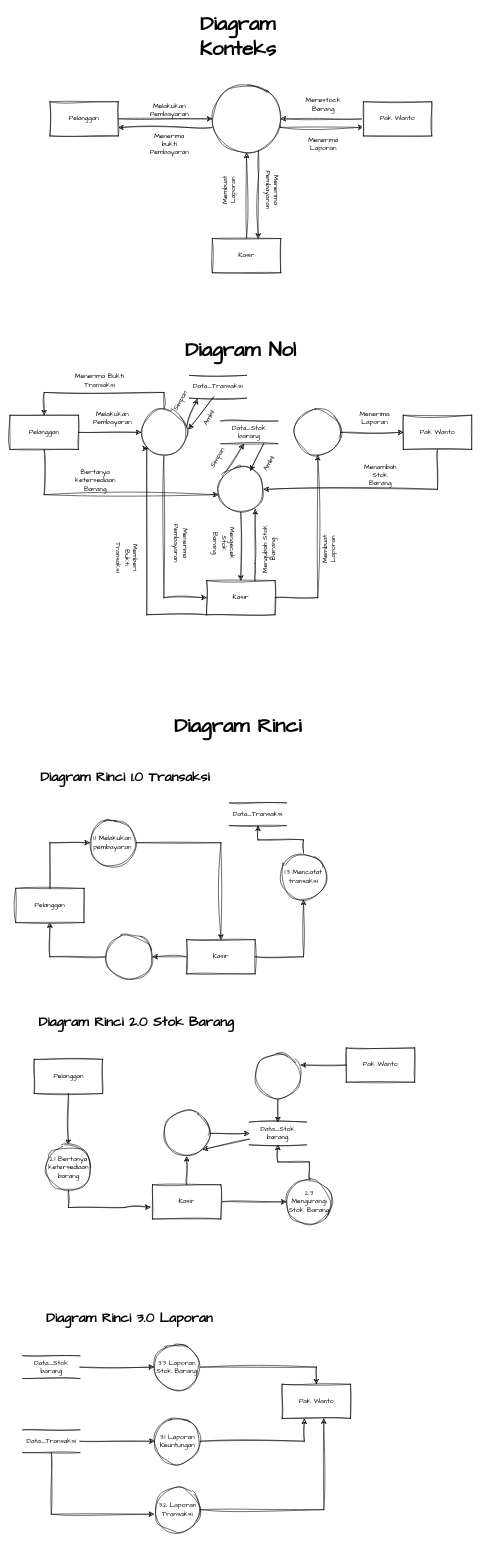
Some shapes in this 482 by 1542 pixel diagram are drawn without their labels. Each missing label, with the centre of its shape:
1.0 Transaksi: the point at 164,432
1.2 Menerima Bukti Pembayaran: the point at 129,956
2.0 Stok Barang: the point at 240,489
2.2 Cek Stok Barang: the point at 186,1133
2.4 Menambah Stok Barang: the point at 278,1076
3.0 Laporan: the point at 317,432
Sistem Penjualan Warung kelontong Pak Wanto: the point at 246,118
